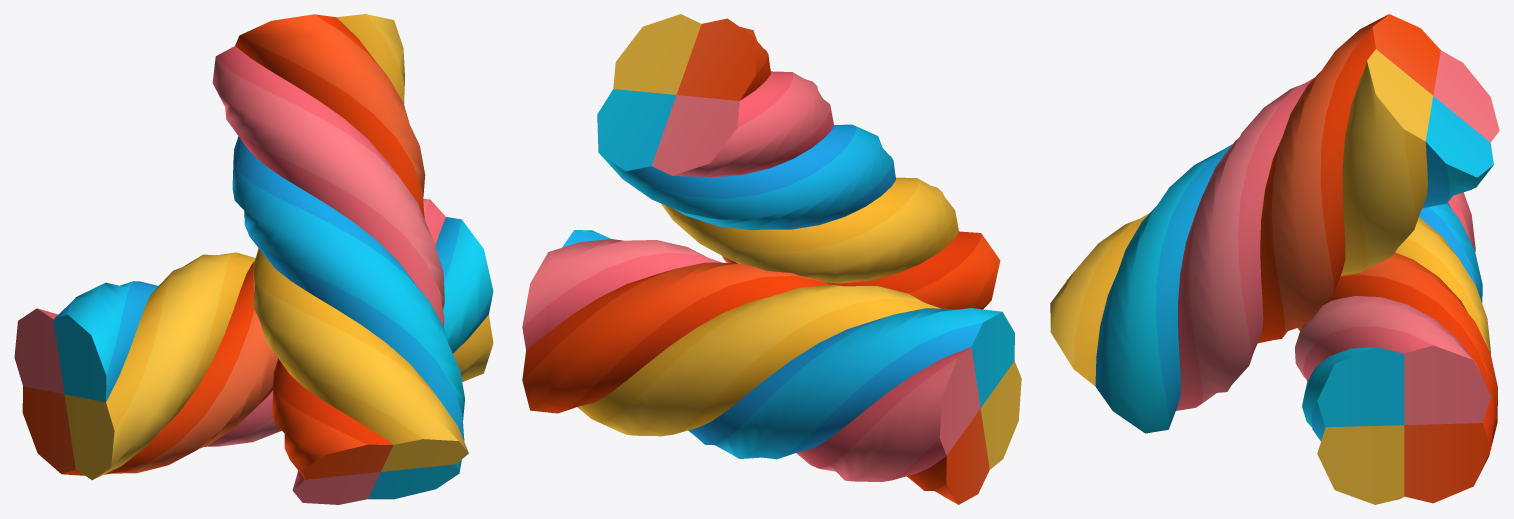
The model's file is Marshmallow_Double_01.fbx.
3 views of the same model, side by side, from view 1: azimuth 30°, elevation 25°; view 2: azimuth 150°, elevation 25°; view 3: azimuth 270°, elevation 25° (orthographic). The views are drawn at different scales.
Visible parts, largest first — view 1: Marshmallow_Double_01; view 2: Marshmallow_Double_01; view 3: Marshmallow_Double_01.
Part boxes in pixels (x1,y1,x2,y2): Marshmallow_Double_01: (14,14,493,504); Marshmallow_Double_01: (522,14,1021,504); Marshmallow_Double_01: (1050,14,1499,504).
Bounding box in the file's own units: 245 × 236 × 232.
